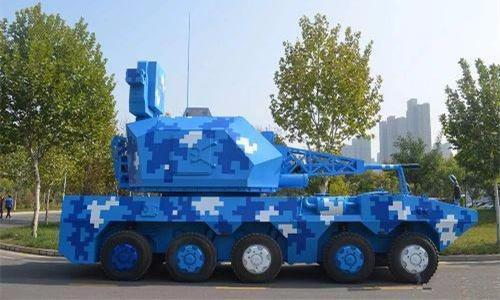MIL_SPG: (61, 62, 477, 282)
